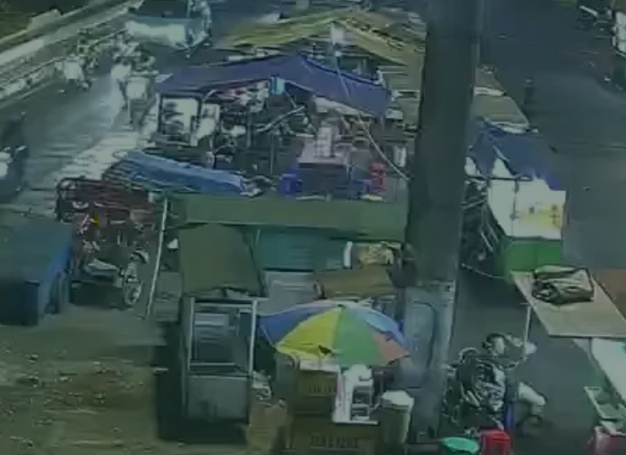Gerobak: (463, 118, 570, 287), (166, 296, 266, 425), (266, 359, 394, 453)
Payung: (260, 300, 410, 371)
Terpal: (160, 191, 410, 266), (153, 52, 391, 123)
